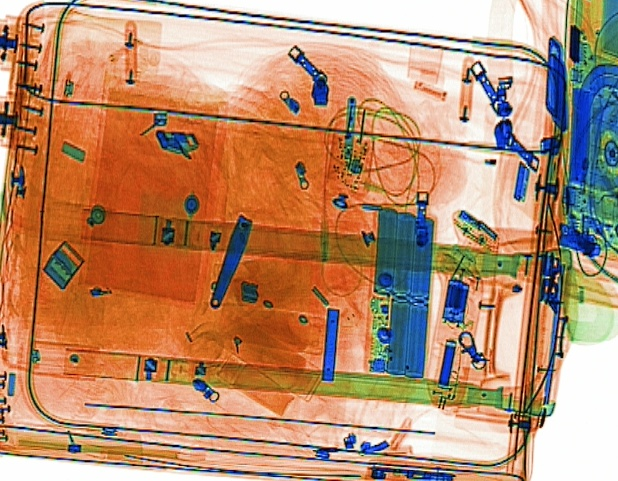powerbank: (360, 203, 437, 379)
